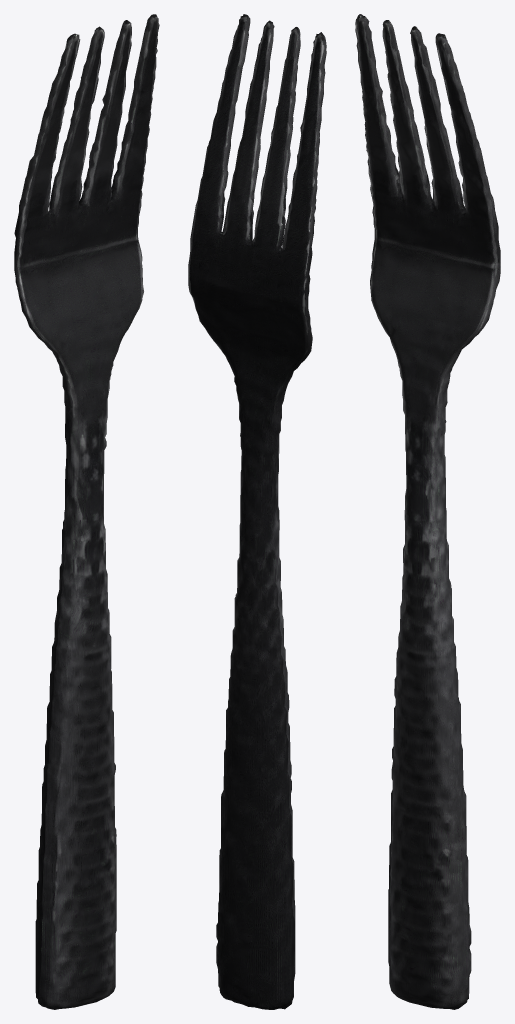
The model's file is black_dinner_fork_0308230346_texture.glb.
3 views of the same model, side by side, from view 1: azimuth 30°, elevation 25°; view 2: azimuth 150°, elevation 25°; view 3: azimuth 330°, elevation 25° (orthographic). The views are drawn at different scales.
Parts seen in each view (by area): view 1: Mesh_0.003; view 2: Mesh_0.003; view 3: Mesh_0.003.
Boxes of the visible parts, x1=… form: Mesh_0.003: x1=14, y1=14, x2=159, y2=1009; Mesh_0.003: x1=188, y1=14, x2=326, y2=1009; Mesh_0.003: x1=355, y1=14, x2=500, y2=1009.
Bounding box in the file's own units: 0.0263 × 0.2032 × 0.0179.
Materials: 1 (1 with a texture image).
